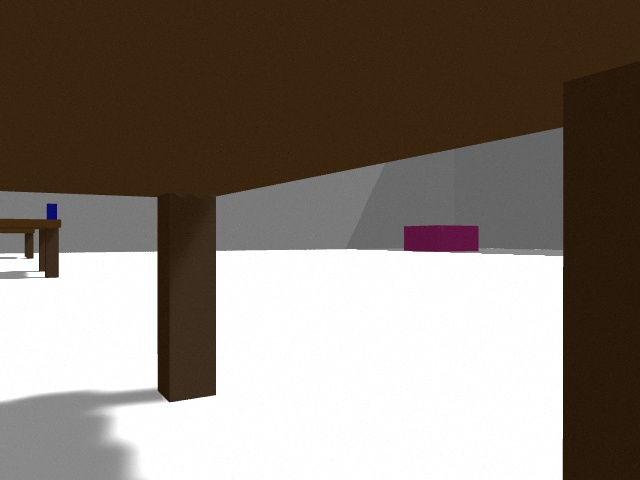blue_cube: (47, 204, 57, 219)
red_drop_zone: (404, 225, 479, 252)
